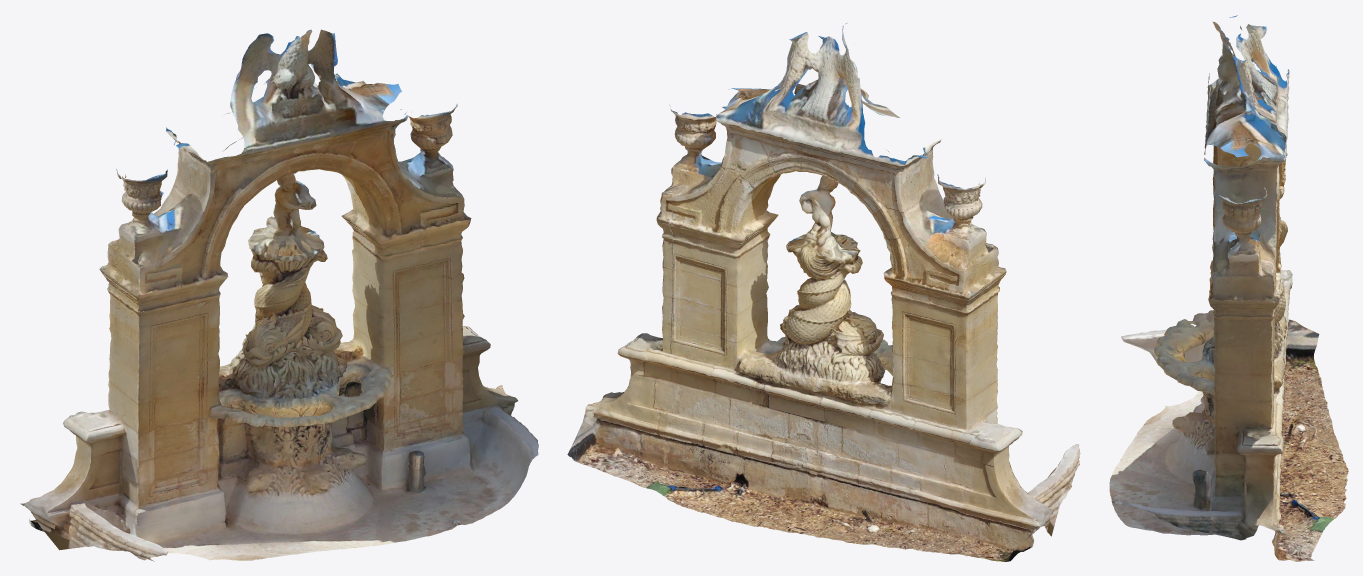
The model's file is 3Ddata.glb.
The picture shows the model from 3 angles, left to right: view 1: azimuth 30°, elevation 25°; view 2: azimuth 150°, elevation 25°; view 3: azimuth 270°, elevation 25°; orthographic projection. The views are drawn at different scales.
Parts seen in each view (by area): view 1: eebe8ae0-4bfe-4879-8162-e29f0bdfbf67; view 2: eebe8ae0-4bfe-4879-8162-e29f0bdfbf67; view 3: eebe8ae0-4bfe-4879-8162-e29f0bdfbf67.
Part boxes in pixels (left/top/right/bottom): eebe8ae0-4bfe-4879-8162-e29f0bdfbf67: left=20, top=29, right=538, bottom=561; eebe8ae0-4bfe-4879-8162-e29f0bdfbf67: left=567, top=23, right=1080, bottom=561; eebe8ae0-4bfe-4879-8162-e29f0bdfbf67: left=1109, top=15, right=1348, bottom=561.
Bounding box in the file's own units: 1.19 × 1.16 × 0.5656.
Materials: 1 (1 with a texture image).
